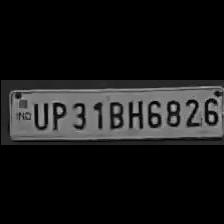1: (88, 97, 104, 130)
2: (182, 94, 200, 128)
3: (66, 97, 88, 130)
6: (200, 93, 218, 126), (143, 96, 161, 128)
8: (162, 95, 182, 127)
B: (104, 96, 124, 130)
H: (124, 95, 144, 129)
P: (47, 97, 66, 130)
U: (29, 97, 47, 129)
